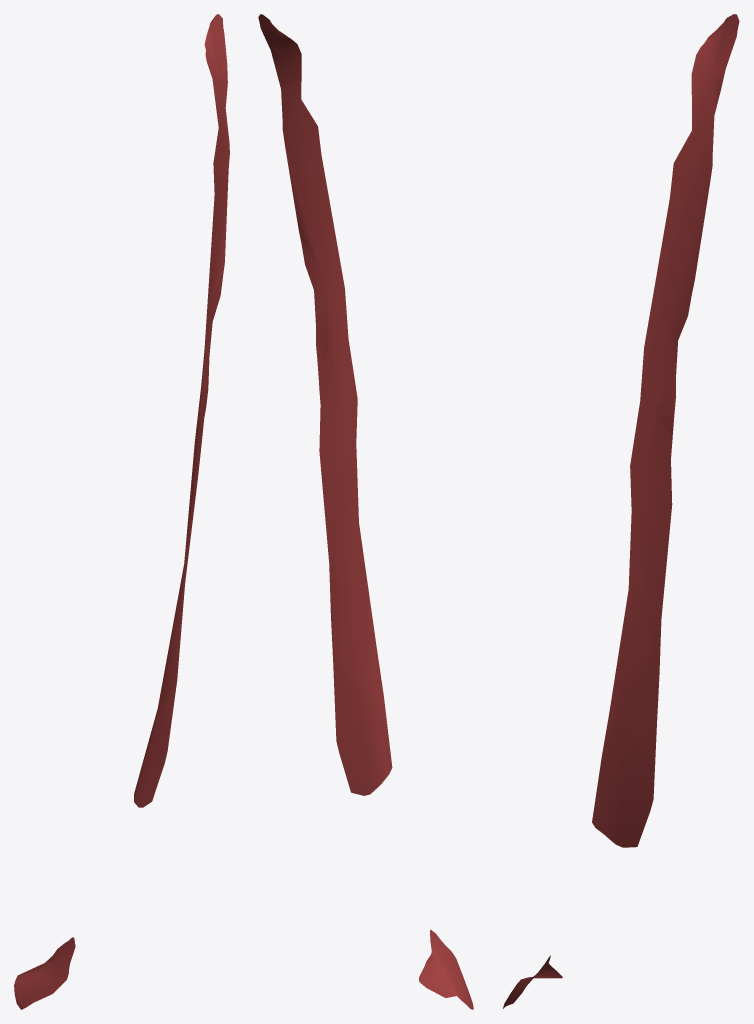
Rendered from adductor-magnus-el.glb.
3 views of the same model, side by side, from view 1: azimuth 30°, elevation 25°; view 2: azimuth 150°, elevation 25°; view 3: azimuth 330°, elevation 25° (orthographic). The views are drawn at different scales.
Parts seen in each view (by area): view 1: Adductor magnus.el; view 2: Adductor magnus.el; view 3: Adductor magnus.el.
Boxes of the visible parts, left/top/right/bottom form: Adductor magnus.el: left=14, top=14, right=229, bottom=1009; Adductor magnus.el: left=258, top=14, right=473, bottom=1009; Adductor magnus.el: left=503, top=14, right=739, bottom=1008.
Bounding box in the file's own units: 0.0736 × 0.3178 × 0.028.
